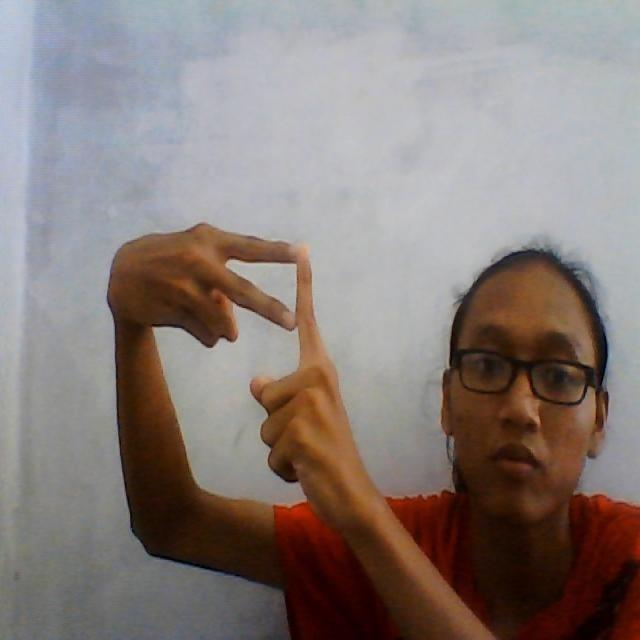P: (198, 210, 360, 447)
